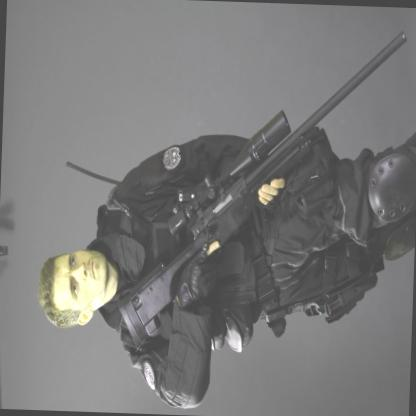rifle: (119, 21, 408, 362)
